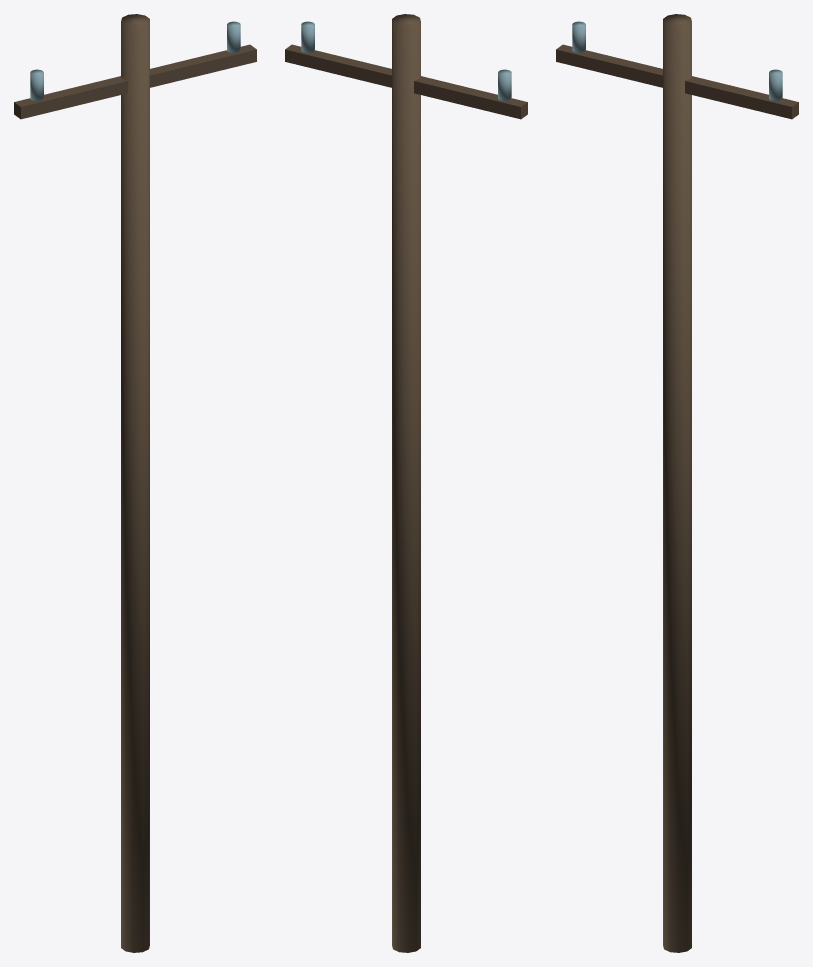
File: PowerPole.fbx
3 renders of one model, left to right at view 1: azimuth 30°, elevation 25°; view 2: azimuth 150°, elevation 25°; view 3: azimuth 330°, elevation 25°, orthographic.
Visible parts, largest first — view 1: Pole, CrossArm; view 2: Pole, CrossArm; view 3: Pole, CrossArm.
Boxes of the visible parts, <box> form: Pole: <box>121,14,149,952</box>; CrossArm: <box>14,44,256,119</box>; Pole: <box>392,14,420,952</box>; CrossArm: <box>285,44,527,119</box>; Pole: <box>663,14,691,952</box>; CrossArm: <box>556,44,798,119</box>.
Bounding box in the file's own units: 240 × 26 × 900.
